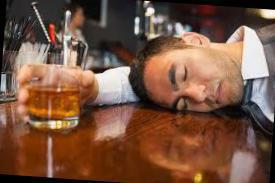Drunk: (142, 47, 238, 111)
